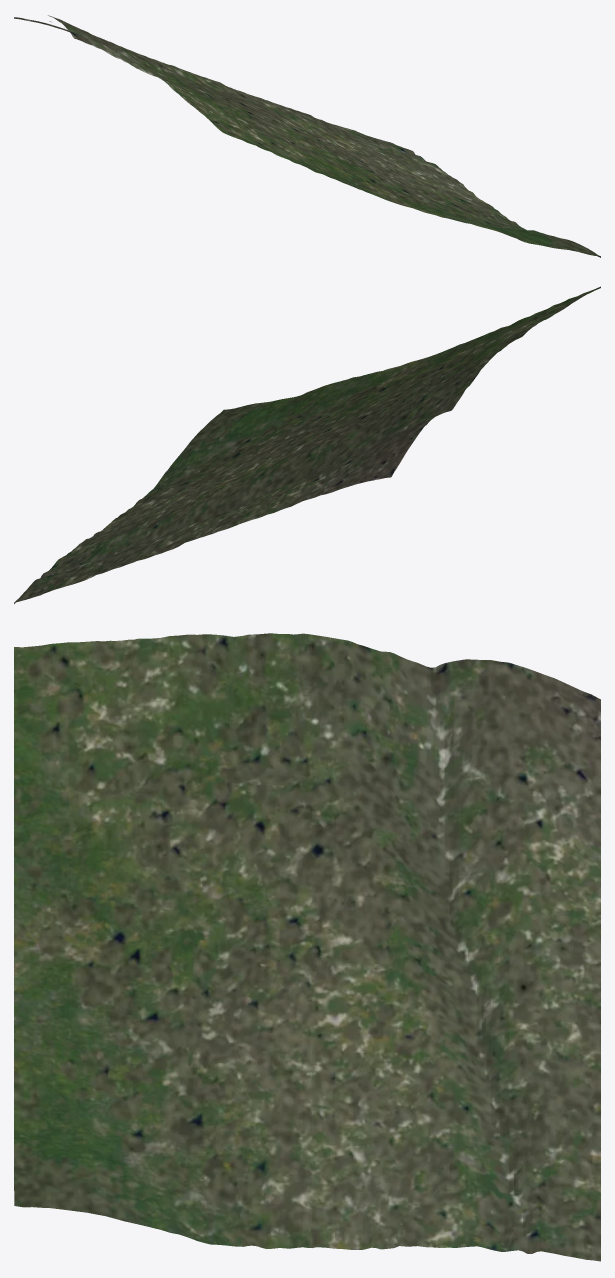
3 renders of one model, top to bottom at view 1: azimuth 30°, elevation 25°; view 2: azimuth 150°, elevation 25°; view 3: azimuth 270°, elevation 25°, orthographic. The views are drawn at different scales.
Size of the model in its own units: 250 by 169 by 241.
Materials: 1 (1 with a texture image).
